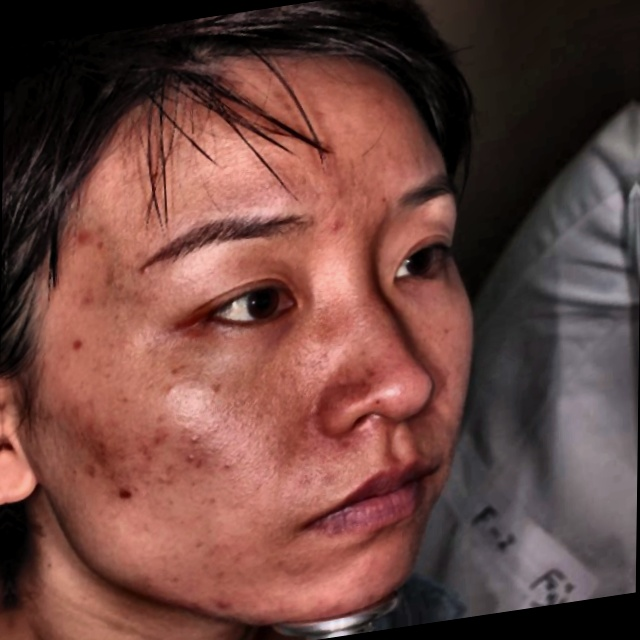comedone: (202, 587, 238, 613), (74, 218, 96, 247), (138, 433, 160, 458)
